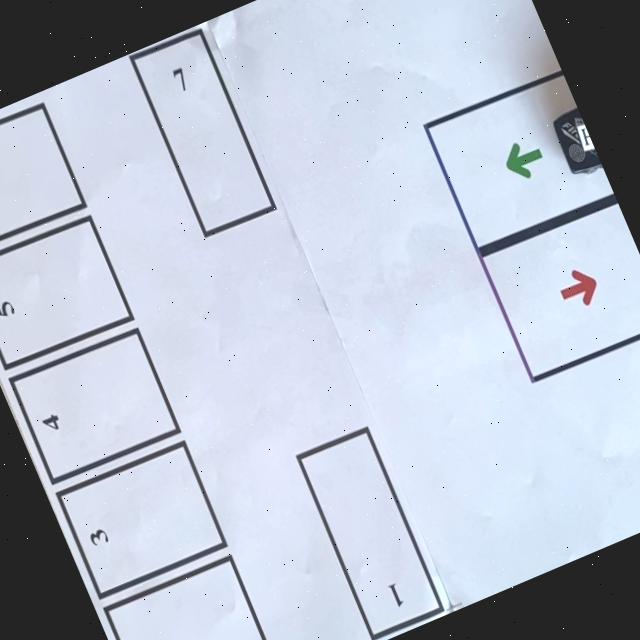car: (546, 105, 604, 181)
